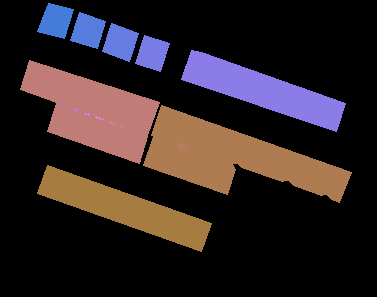parkingspot: (151, 105, 351, 202), (37, 165, 211, 251), (181, 50, 345, 131), (20, 60, 159, 135), (47, 103, 147, 163), (143, 136, 235, 194), (102, 23, 138, 61), (37, 3, 73, 38), (70, 12, 105, 48), (135, 35, 169, 71)
